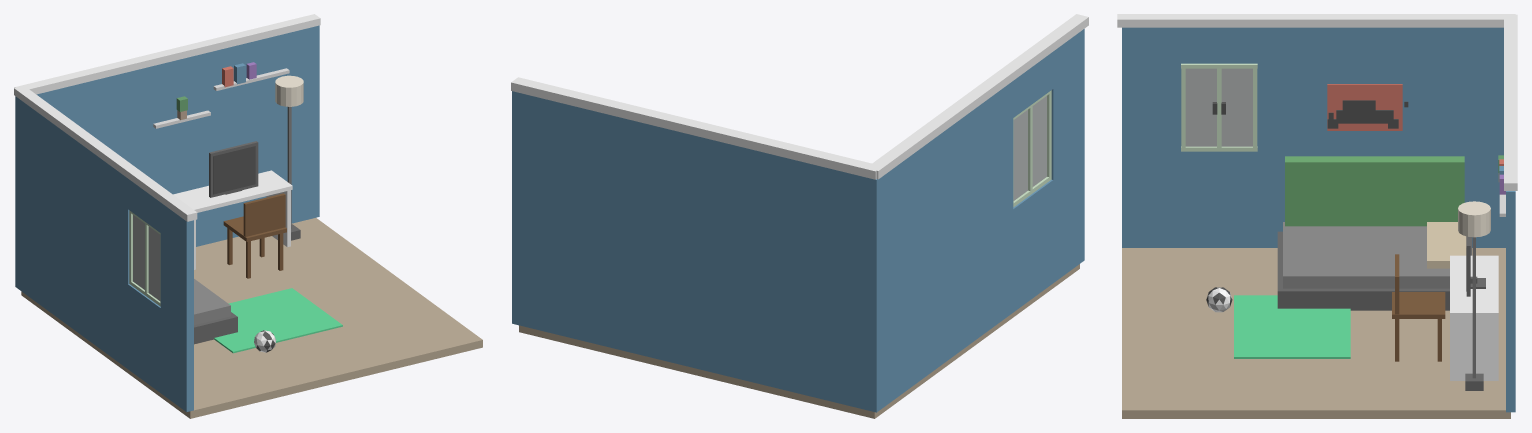
Rendered from room.glb.
3 renders of one model, left to right at view 1: azimuth 30°, elevation 25°; view 2: azimuth 150°, elevation 25°; view 3: azimuth 270°, elevation 25°, orthographic. The views are drawn at different scales.
Parts seen in each view (by area): view 1: WallLeft, Floor, WallBack, FloorRug, TrimBack, TrimLeft, DeskTop, MonScreen, ChairBack, Mattress, WinGlassL, FloorLamp (+4 smaller); view 2: WallBack, WallLeft, TrimBack, TrimLeft, Floor, WinGlassL, WinGlassR; view 3: WallLeft, Floor, Headboard, Mattress, FloorRug, TrimLeft, BedFrame, DeskRight, DeskTop, WinGlassL, WinGlassR, TrimBack (+14 smaller).
Boxes of the visible parts, bbox=[...] form: WallLeft: bbox=[17, 98, 193, 411]; Floor: bbox=[21, 218, 482, 418]; WallBack: bbox=[15, 25, 319, 289]; FloorRug: bbox=[214, 288, 342, 353]; TrimBack: bbox=[14, 14, 320, 94]; TrimLeft: bbox=[14, 86, 197, 221]; DeskTop: bbox=[173, 170, 292, 212]; MonScreen: bbox=[213, 146, 255, 194]; ChairBack: bbox=[243, 193, 285, 236]; Mattress: bbox=[194, 279, 230, 325]; WinGlassL: bbox=[148, 226, 160, 300]; FloorLamp: bbox=[275, 75, 303, 106]; WallBack: bbox=[512, 91, 881, 412]; WallLeft: bbox=[879, 29, 1084, 410]; TrimBack: bbox=[511, 77, 880, 179]; TrimLeft: bbox=[866, 14, 1088, 179]; Floor: bbox=[519, 264, 1079, 418]; WinGlassL: bbox=[1032, 96, 1046, 186]; WinGlassR: bbox=[1013, 110, 1027, 200]; WallLeft: bbox=[1122, 27, 1505, 247]; Floor: bbox=[1122, 248, 1510, 418]; Headboard: bbox=[1285, 156, 1464, 226]; Mattress: bbox=[1283, 222, 1449, 288]; FloorRug: bbox=[1234, 295, 1350, 358]; TrimLeft: bbox=[1117, 14, 1515, 27]; BedFrame: bbox=[1277, 231, 1471, 310]; DeskRight: bbox=[1450, 317, 1498, 380]; DeskTop: bbox=[1450, 255, 1498, 317]; WinGlassL: bbox=[1185, 68, 1216, 146]; WinGlassR: bbox=[1221, 68, 1252, 146]; TrimBack: bbox=[1504, 14, 1517, 190].
Size of the model in its own units: 8.24 by 5.4 by 8.24.
